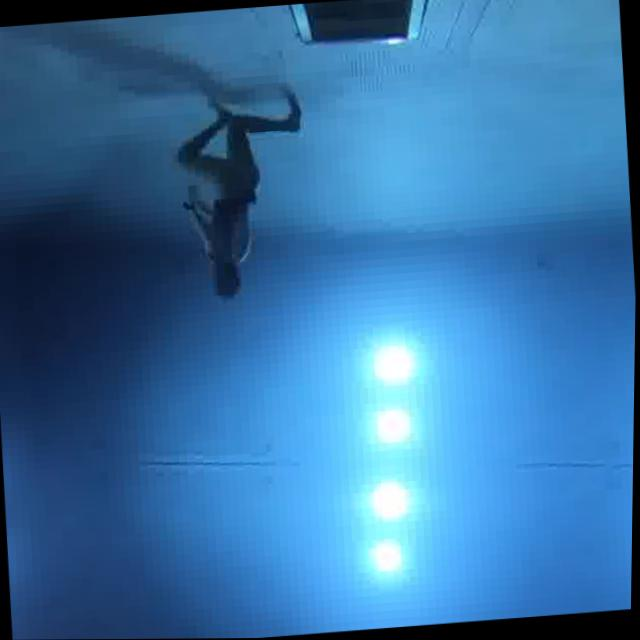human: (164, 72, 323, 313)
